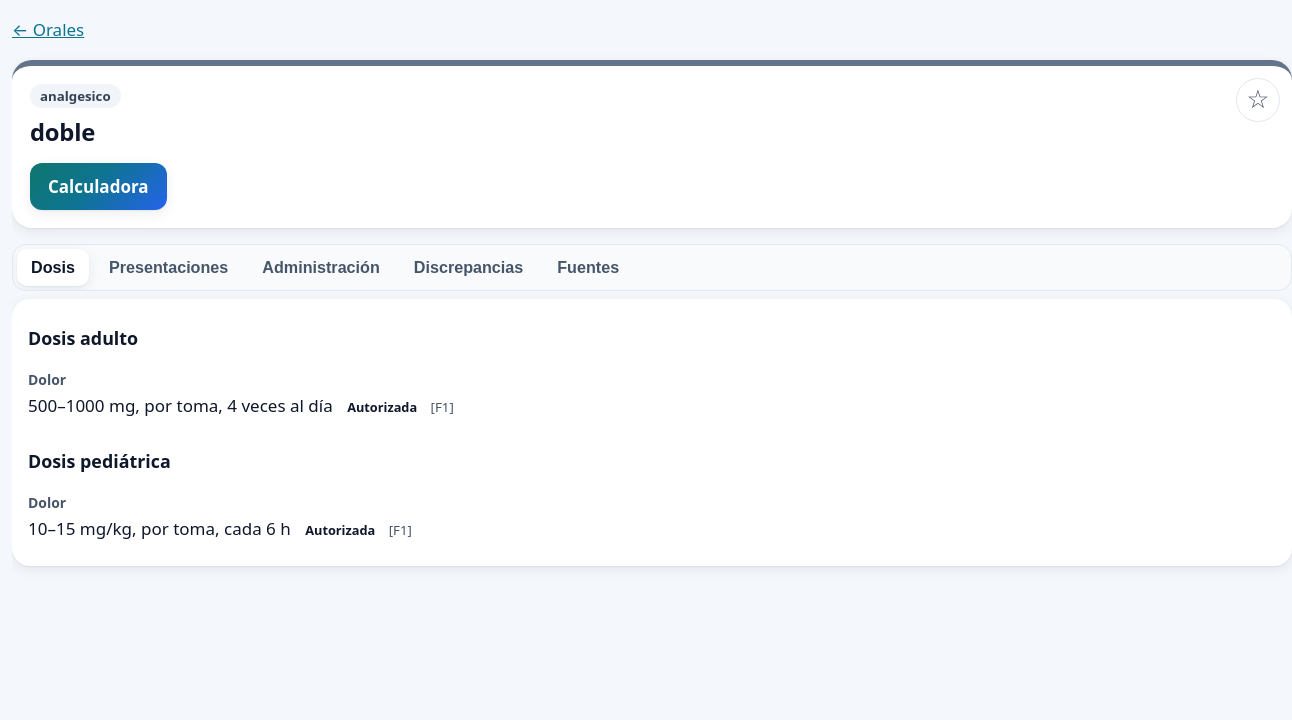
Test: FichaOral › sin discrepancias muestra el estado vacío
Click the tab "Discrepancias" at (469,268), box [400,249,537,286]
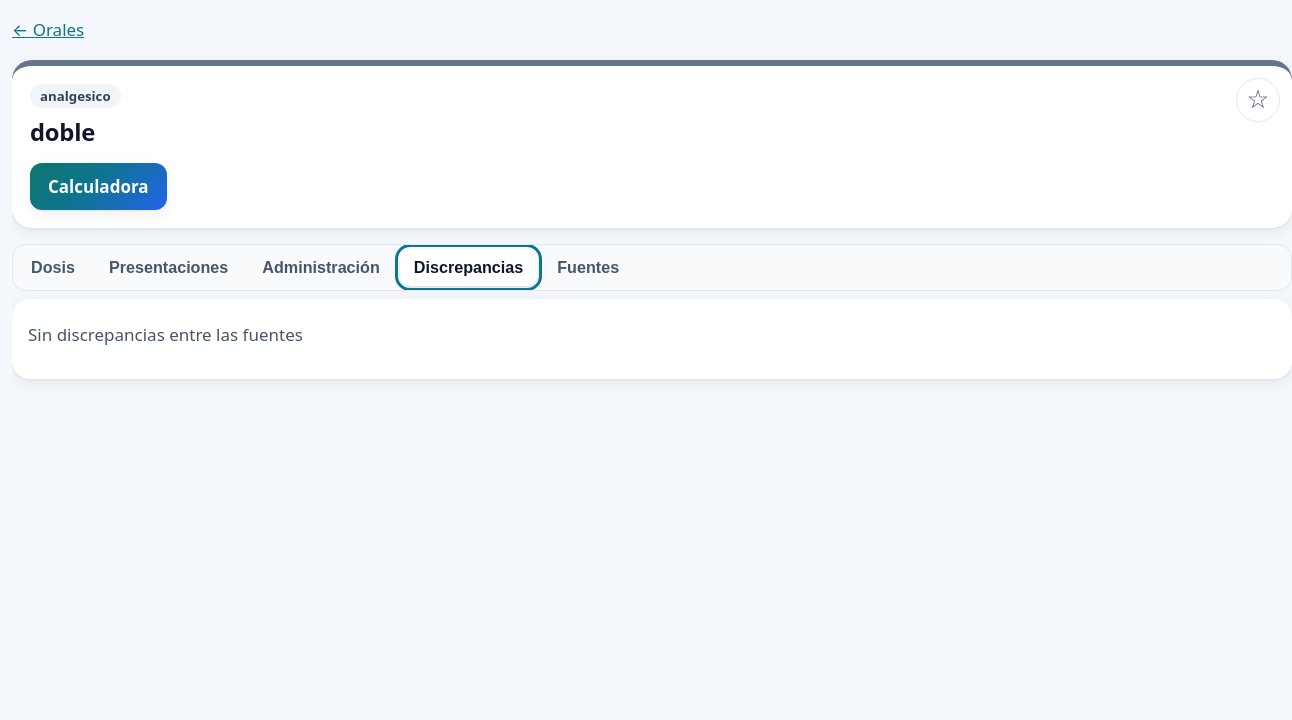
Result: the text "Sin discrepancias entre las fuentes" is shown at [28,323,303,346]
